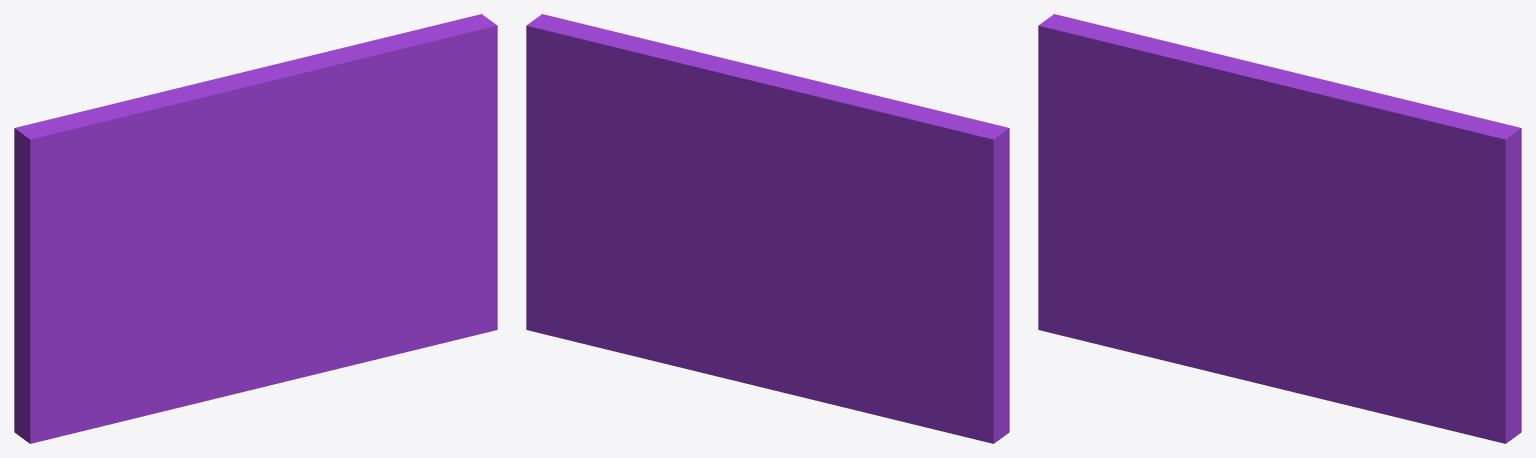
Rendered from Barrier_103_chunks.fbx.
3 views of the same model, side by side, from view 1: azimuth 30°, elevation 25°; view 2: azimuth 150°, elevation 25°; view 3: azimuth 330°, elevation 25° (orthographic).
Visible parts, largest first — view 1: Barrier_103_0, Barrier_103_9, Barrier_103_6, Barrier_103_2, Barrier_103_3, Barrier_103_5, Barrier_103_7, Barrier_103_1, Barrier_103_8, Barrier_103_4; view 2: Barrier_103_0, Barrier_103_1, Barrier_103_9, Barrier_103_3, Barrier_103_2, Barrier_103_6, Barrier_103_5, Barrier_103_7; view 3: Barrier_103_0, Barrier_103_9, Barrier_103_6, Barrier_103_3, Barrier_103_2, Barrier_103_5, Barrier_103_7, Barrier_103_1, Barrier_103_8, Barrier_103_4.
Boxes of the visible parts, x1,y1,x2,y2 form: Barrier_103_0: [14, 117, 269, 443]; Barrier_103_9: [367, 14, 497, 214]; Barrier_103_6: [187, 42, 383, 184]; Barrier_103_2: [195, 230, 330, 403]; Barrier_103_3: [297, 254, 497, 378]; Barrier_103_5: [311, 196, 497, 271]; Barrier_103_7: [230, 153, 397, 237]; Barrier_103_1: [14, 81, 213, 162]; Barrier_103_8: [326, 48, 402, 175]; Barrier_103_4: [309, 264, 409, 354]; Barrier_103_0: [784, 106, 1009, 443]; Barrier_103_1: [745, 89, 997, 269]; Barrier_103_9: [526, 14, 685, 208]; Barrier_103_3: [526, 248, 733, 380]; Barrier_103_2: [684, 222, 846, 407]; Barrier_103_6: [641, 42, 851, 178]; Barrier_103_5: [526, 186, 717, 279]; Barrier_103_7: [643, 153, 765, 227]; Barrier_103_0: [1038, 17, 1278, 369]; Barrier_103_9: [1377, 100, 1521, 309]; Barrier_103_6: [1195, 60, 1406, 182]; Barrier_103_3: [1305, 343, 1521, 443]; Barrier_103_2: [1203, 241, 1338, 394]; Barrier_103_5: [1319, 253, 1521, 367]; Barrier_103_7: [1238, 168, 1405, 279]; Barrier_103_1: [1050, 14, 1244, 138]; Barrier_103_8: [1334, 110, 1410, 226]; Barrier_103_4: [1317, 296, 1418, 376].
Bounding box in the file's own units: 462 × 288 × 27.2.
